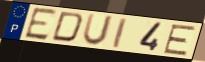4: (137, 21, 164, 53)
D: (50, 11, 85, 44)
E: (23, 6, 59, 42), (161, 24, 197, 57)
I: (112, 17, 128, 50)
U: (81, 12, 116, 47)
